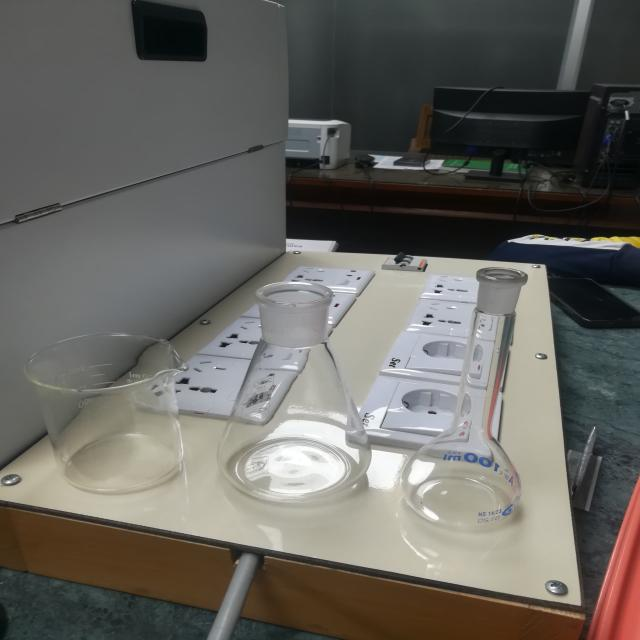Beaker: (12, 305, 200, 510)
Conical_Flask: (222, 267, 376, 520)
Volumetric_Flask: (420, 266, 552, 548)
